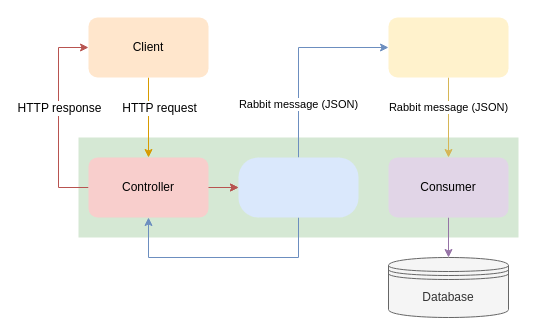
This 536x335 diagram has some shape labels left out. Each missing label, with the centre of its shape:
Producer: pixel 298 187
RabbitMq: pixel 448 47
